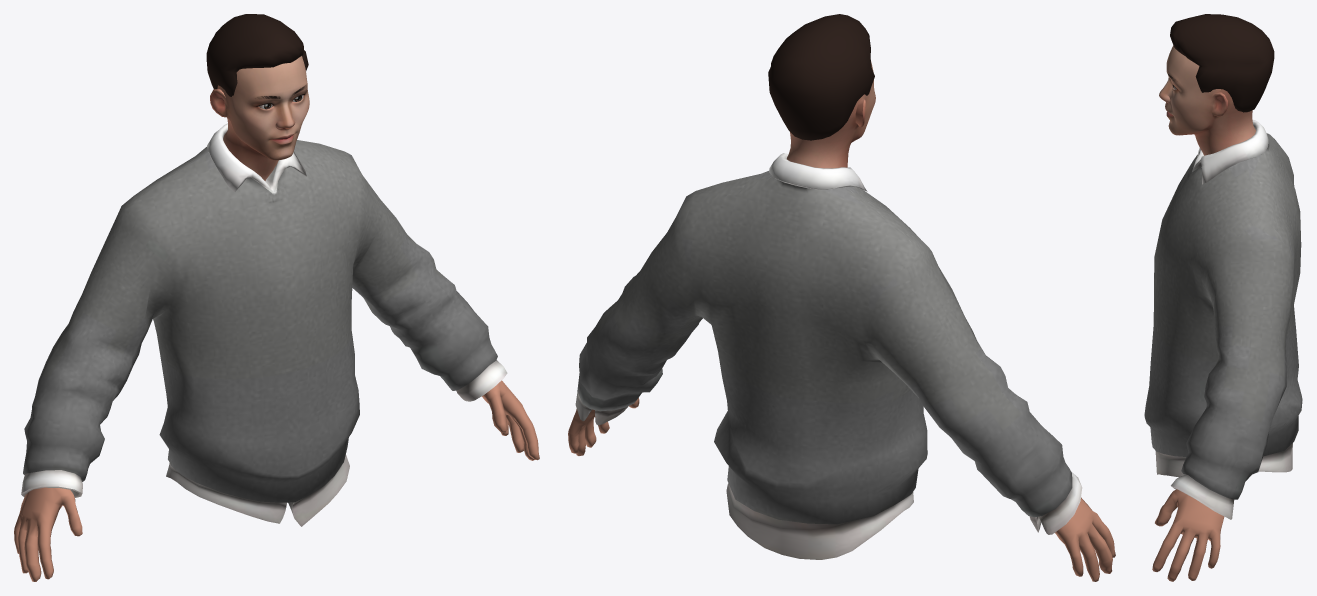
The model's file is profile.glb.
3 renders of one model, left to right at view 1: azimuth 30°, elevation 25°; view 2: azimuth 150°, elevation 25°; view 3: azimuth 270°, elevation 25°, orthographic. The views are drawn at different scales.
Parts seen in each view (by area): view 1: Wolf3D_Outfit_Top.001, Wolf3D_Head.001, Wolf3D_Body, Wolf3D_Hair.001; view 2: Wolf3D_Outfit_Top.001, Wolf3D_Hair.001, Wolf3D_Body, Wolf3D_Head.001; view 3: Wolf3D_Outfit_Top.001, Wolf3D_Hair.001, Wolf3D_Head.001, Wolf3D_Body.
Part boxes in pixels (box(x1,y1,x2,y2)): Wolf3D_Outfit_Top.001: box(21, 123, 507, 526); Wolf3D_Head.001: box(210, 56, 309, 180); Wolf3D_Body: box(14, 380, 539, 581); Wolf3D_Hair.001: box(206, 14, 308, 96); Wolf3D_Outfit_Top.001: box(575, 153, 1082, 559); Wolf3D_Hair.001: box(768, 14, 874, 140); Wolf3D_Body: box(568, 398, 1115, 581); Wolf3D_Head.001: box(787, 61, 875, 168); Wolf3D_Outfit_Top.001: box(1144, 120, 1302, 519); Wolf3D_Hair.001: box(1170, 14, 1274, 112); Wolf3D_Head.001: box(1159, 45, 1255, 155); Wolf3D_Body: box(1152, 489, 1224, 581).
Bounding box in the file's own units: 10.63 × 9.73 × 3.07.
5 materials, 5 textured.
